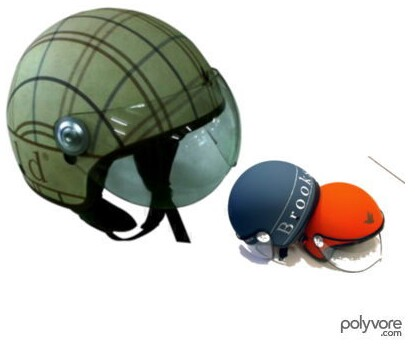helmet: (4, 7, 235, 206), (227, 165, 314, 238), (315, 182, 386, 263)
